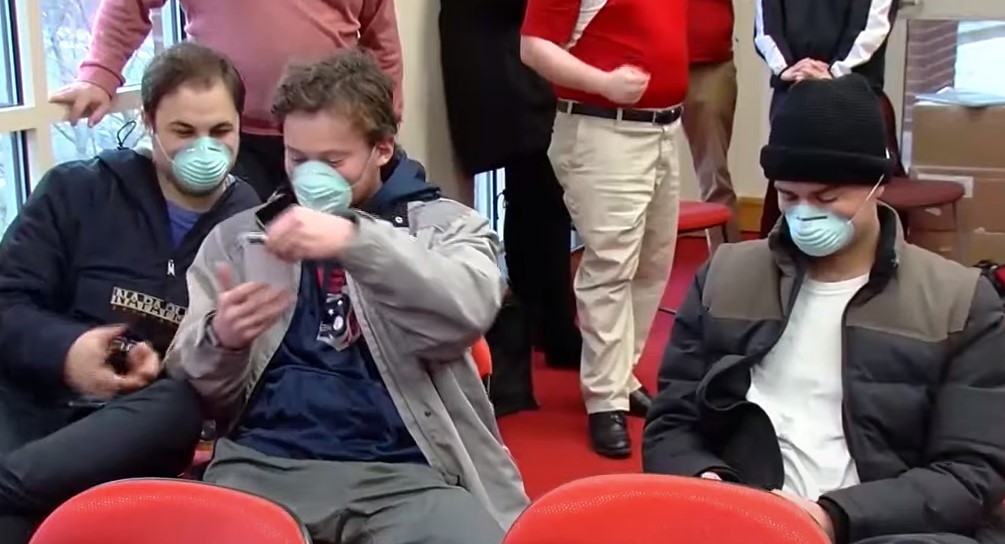face_with_mask: (759, 81, 904, 258), (271, 61, 397, 218), (140, 50, 242, 195)
